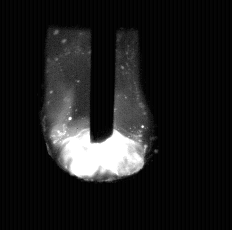arame: (90, 0, 115, 144)
poca: (55, 0, 145, 230)
